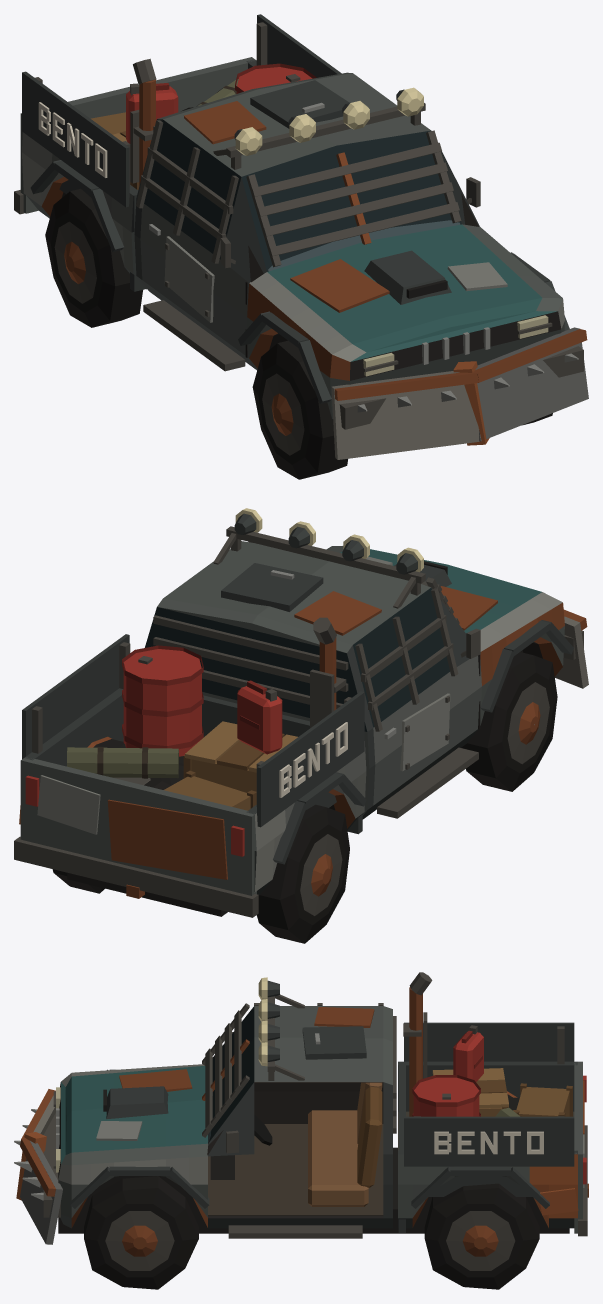
Rendered from carreta.glb.
3 views of the same model, one above another, from view 1: azimuth 30°, elevation 25°; view 2: azimuth 150°, elevation 25°; view 3: azimuth 270°, elevation 25° (orthographic). The views are drawn at different scales.
Parts seen in each view (by area): view 1: carreta.001; view 2: carreta.001; view 3: carreta.001.
Boxes of the visible parts, x1,y1,x2,y2 form: carreta.001: [14, 14, 588, 479]; carreta.001: [14, 508, 588, 943]; carreta.001: [14, 972, 588, 1289].
Bounding box in the file's own units: 2 × 2.12 × 4.73.
